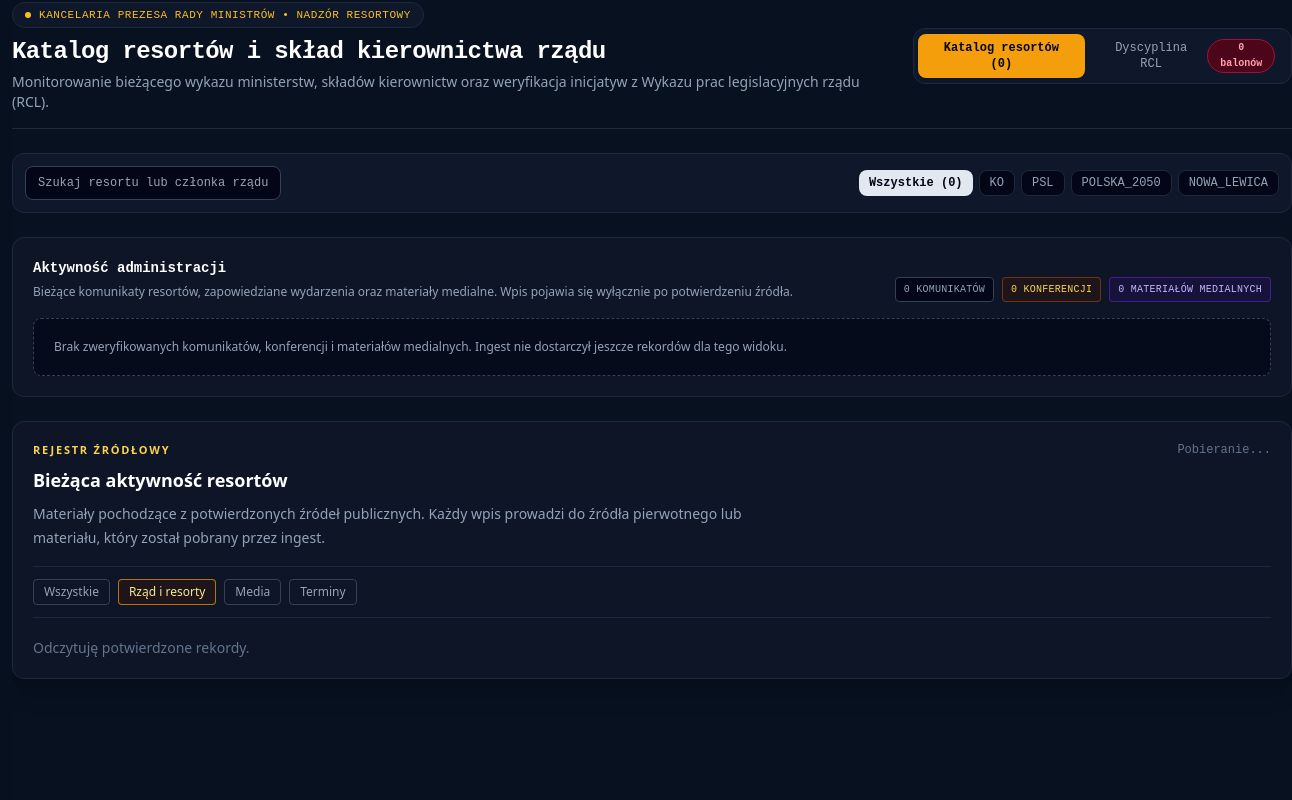
Test: Executive Briefing & Command Palette Modules › renders ResortyPage with RCL discipline and presidential veto risk assessment
The image size is (1292, 800).
// Switch to RCL tab
Click the text "Dyscyplina RCL": (1151, 56) [1115,41,1187,71]
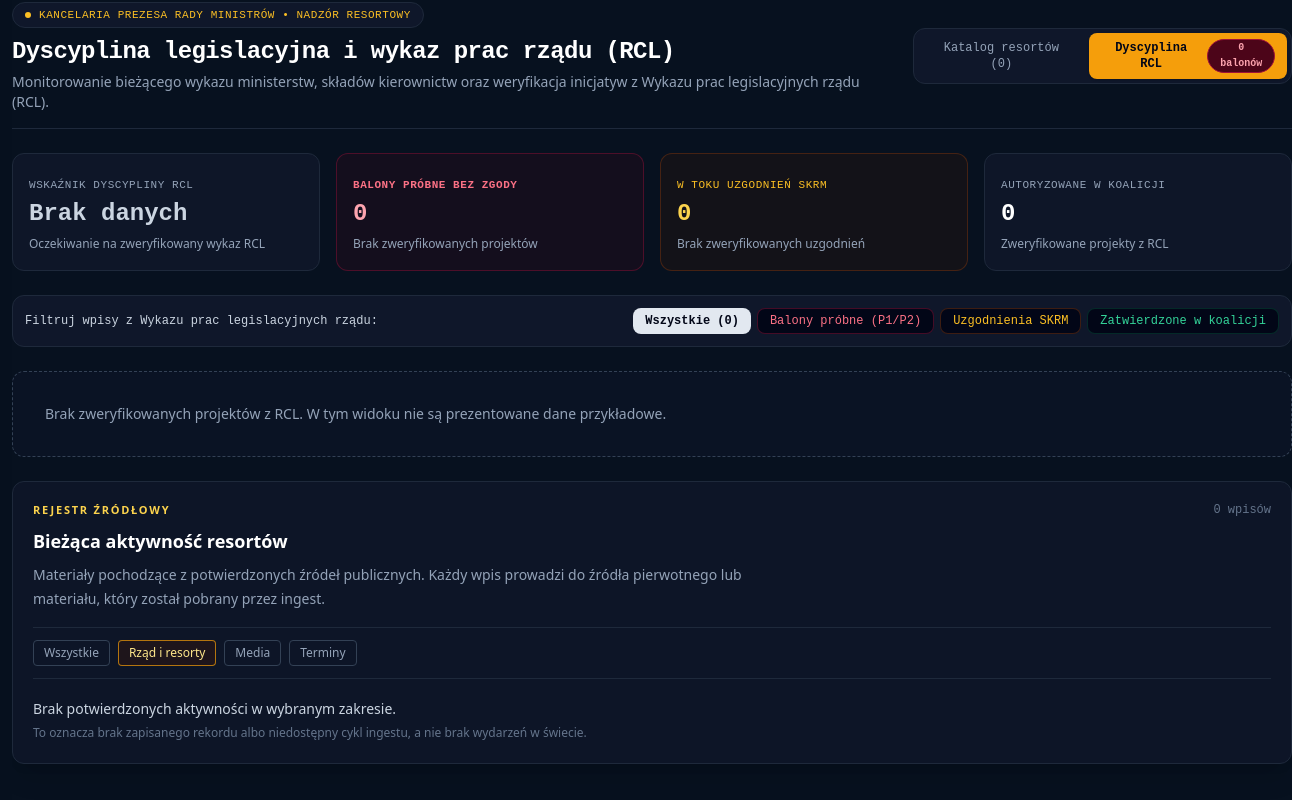
Check: the heading "Dyscyplina legislacyjna i wykaz prac rządu (RCL)" is shown, box [12,38,674,65]
Check: the text "Wskaźnik dyscypliny RCL" is shown, box [29,179,194,191]
Check: the text "Brak danych" is shown, box [29,200,187,227]
